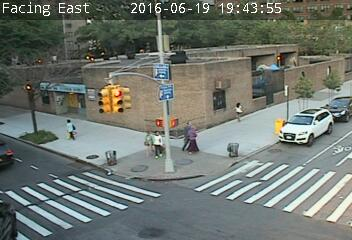neg: (279, 82, 296, 105), (302, 41, 313, 55), (173, 30, 183, 44), (275, 54, 285, 67)
pos: (146, 129, 168, 159), (183, 124, 205, 154), (177, 117, 198, 146), (61, 117, 79, 141), (141, 129, 157, 151), (230, 100, 245, 120)
